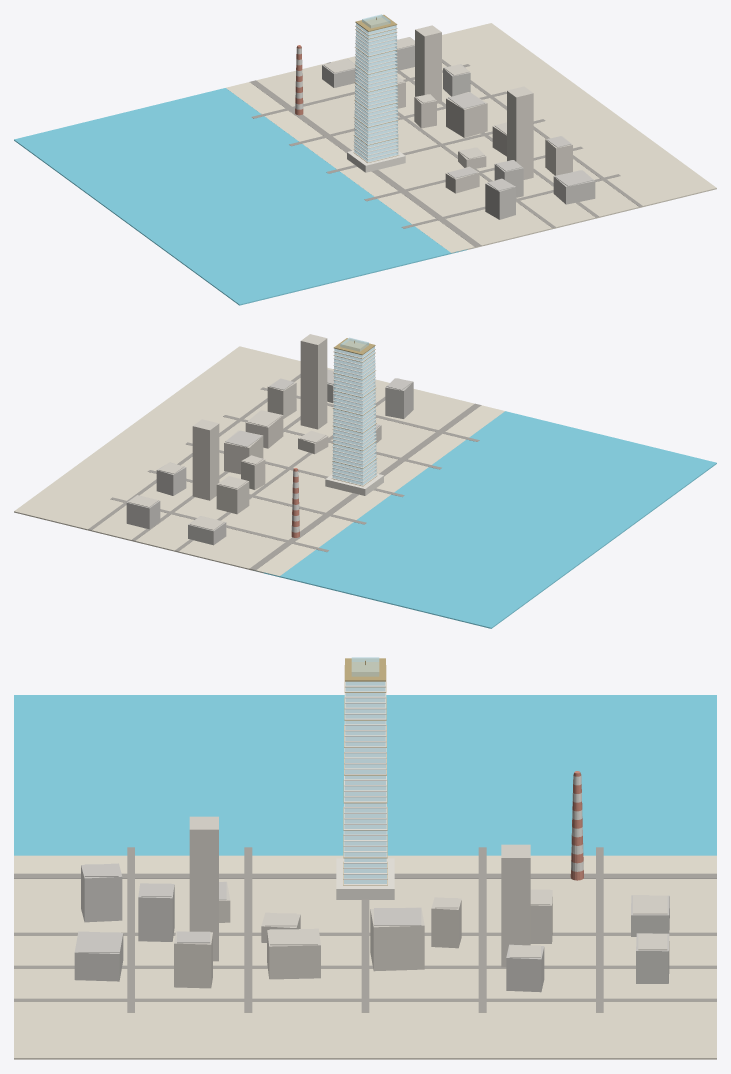
File: dimri.glb
3 views of the same model, one above another, from view 1: azimuth 30°, elevation 25°; view 2: azimuth 150°, elevation 25°; view 3: azimuth 270°, elevation 25° (orthographic). The views are drawn at different scales.
Parts seen in each view (by area): view 1: scene; view 2: scene; view 3: scene.
Boxes of the visible parts, <box> form: scene: <box>14,14,716,305</box>; scene: <box>14,334,716,628</box>; scene: <box>14,657,716,1059</box>.
Bounding box in the file's own units: 440 × 128 × 360.
